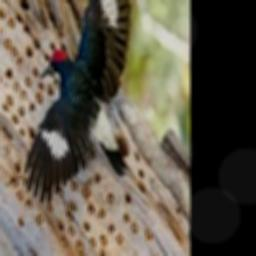Woodpecker: (24, 0, 134, 204)
